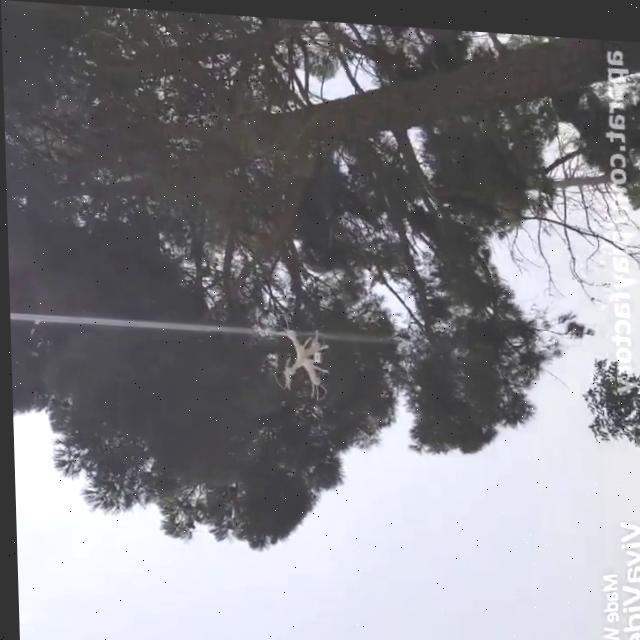drone: (269, 317, 327, 398)
